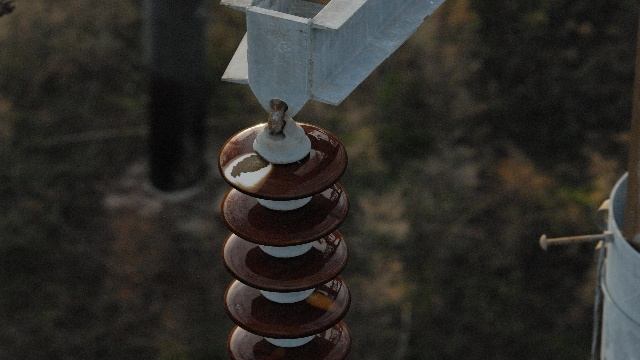insulator_unspecified: (215, 122, 351, 358)
pollution_flashover_local: (219, 151, 276, 185), (304, 292, 341, 312)
